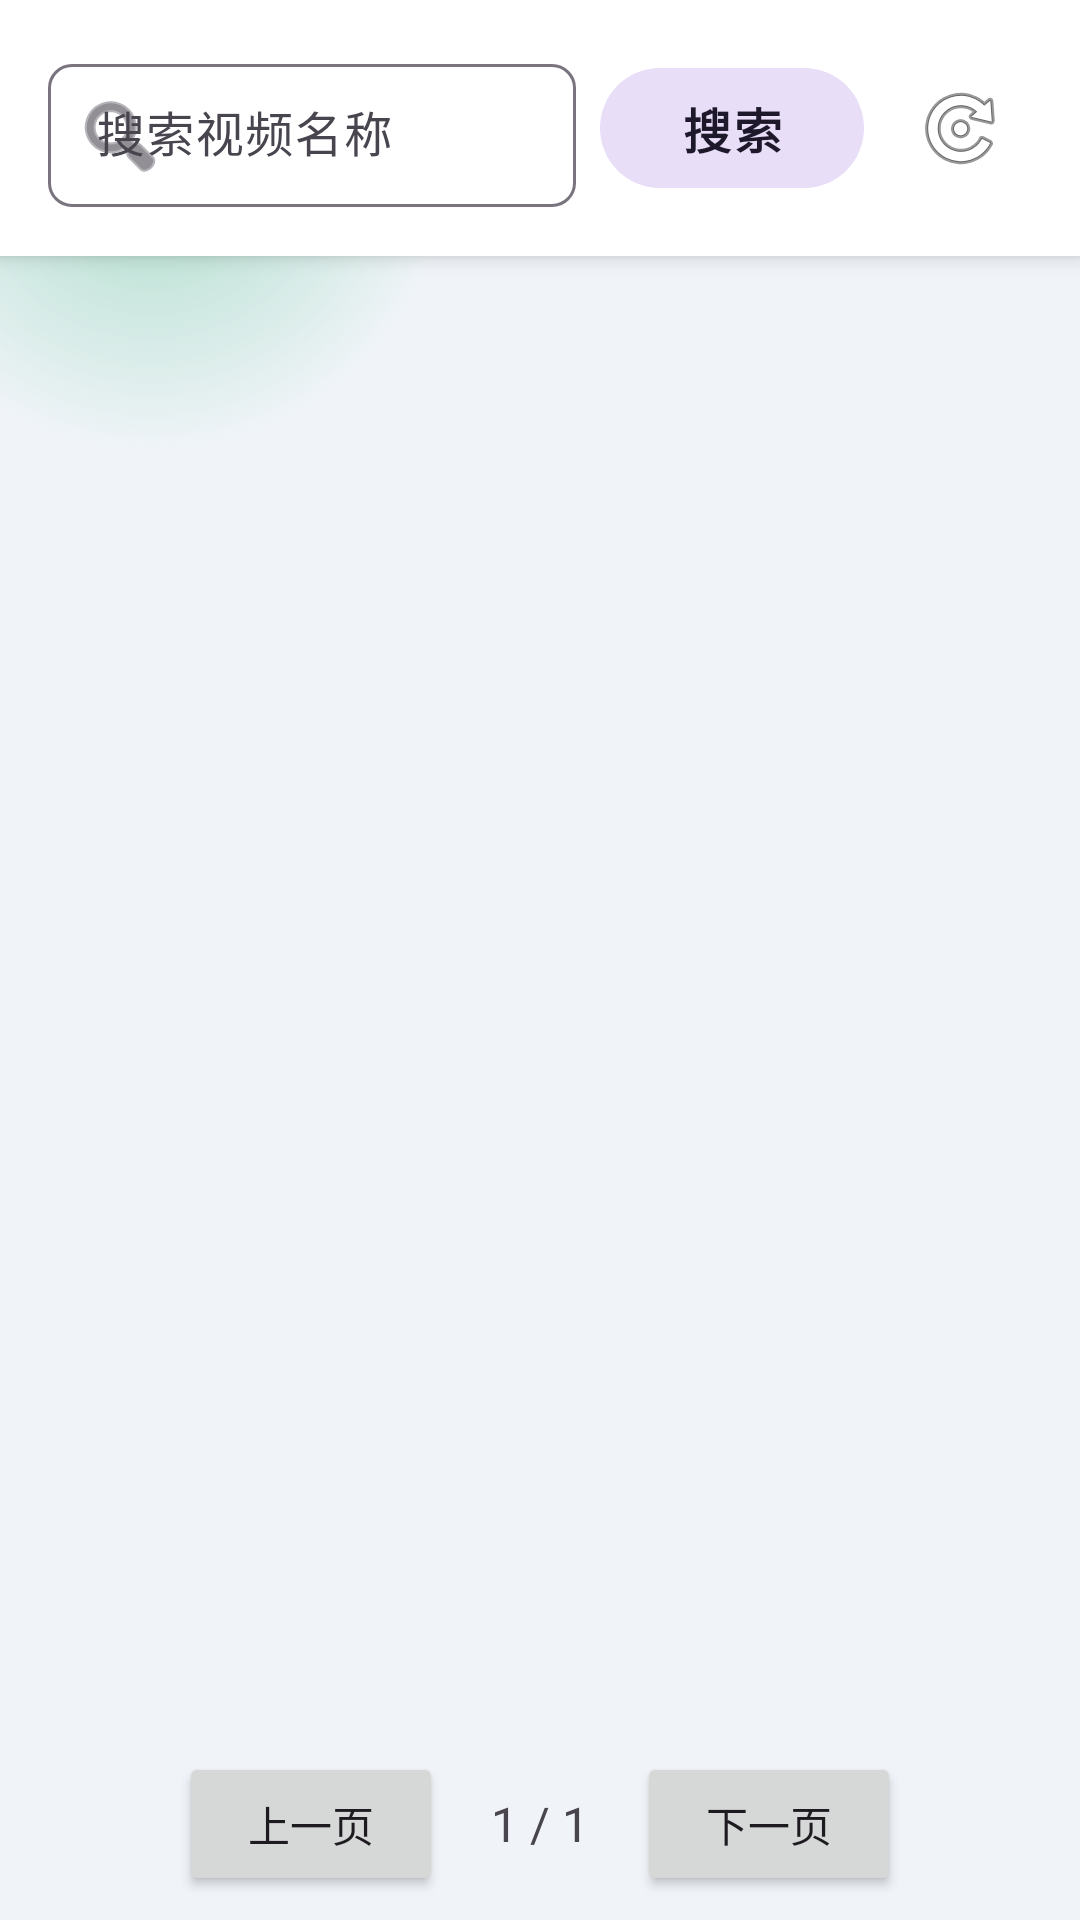

Where to tap for icons on this 1080*1920 app screen, as (x=x, y=y):
rotate: (x=960, y=128)
